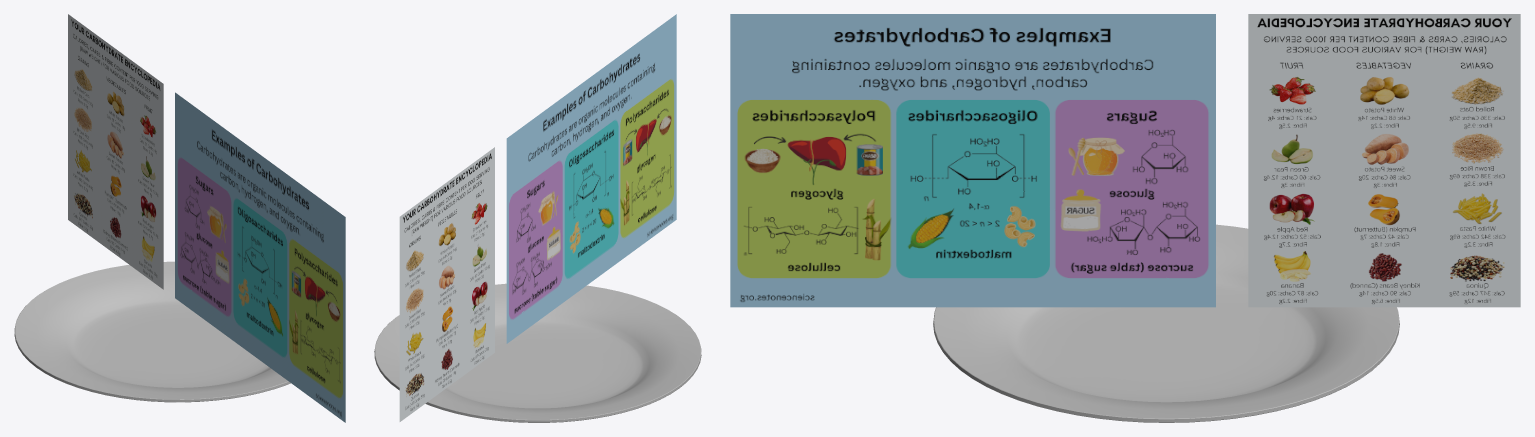
File: carbohydrate.glb
The picture shows the model from 3 angles, left to right: view 1: azimuth 30°, elevation 25°; view 2: azimuth 150°, elevation 25°; view 3: azimuth 270°, elevation 25°; orthographic projection. The views are drawn at different scales.
Parts seen in each view (by area): view 1: carbohydrate_content, plate, carbohydrate_content_2; view 2: carbohydrate_content, plate, carbohydrate_content_2; view 3: carbohydrate_content, carbohydrate_content_2, plate.
Boxes of the visible parts, x1,y1,x2,y2 form: carbohydrate_content: [175, 92, 345, 422]; plate: [14, 261, 290, 402]; carbohydrate_content_2: [68, 14, 163, 289]; carbohydrate_content: [506, 14, 676, 343]; plate: [374, 283, 701, 422]; carbohydrate_content_2: [399, 147, 494, 421]; carbohydrate_content: [730, 14, 1215, 307]; carbohydrate_content_2: [1248, 14, 1520, 307]; plate: [933, 224, 1399, 422].
Size of the model in its own units: 2.87 by 2.34 by 4.86.
3 materials, 2 textured.
